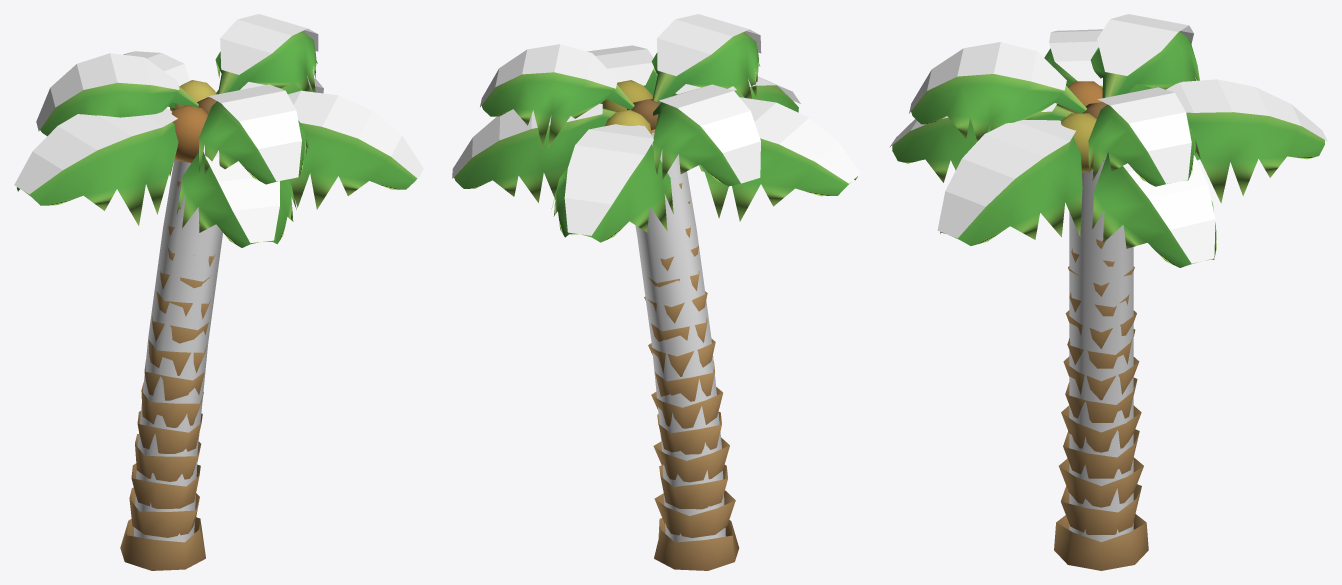
The model's file is tree-palm-tall.glb.
3 renders of one model, left to right at view 1: azimuth 30°, elevation 25°; view 2: azimuth 150°, elevation 25°; view 3: azimuth 270°, elevation 25°, orthographic. The views are drawn at different scales.
Parts seen in each view (by area): view 1: Fronds, Hull, Trunk, Stem; view 2: Fronds, Hull, Trunk, Stem; view 3: Fronds, Hull, Trunk, Stem.
Part boxes in pixels (x1,y1,x2,y2): Fronds: (17, 31, 417, 247); Hull: (14, 14, 423, 242); Trunk: (120, 80, 216, 570); Stem: (134, 159, 222, 542); Fronds: (454, 32, 857, 242); Hull: (452, 14, 860, 235); Trunk: (602, 80, 739, 570); Stem: (635, 132, 725, 542); Fronds: (892, 32, 1324, 267); Hull: (889, 14, 1327, 263); Trunk: (1054, 81, 1148, 570); Stem: (1069, 154, 1133, 542).
Size of the model in its own units: 4.77 by 6.23 by 4.81.
